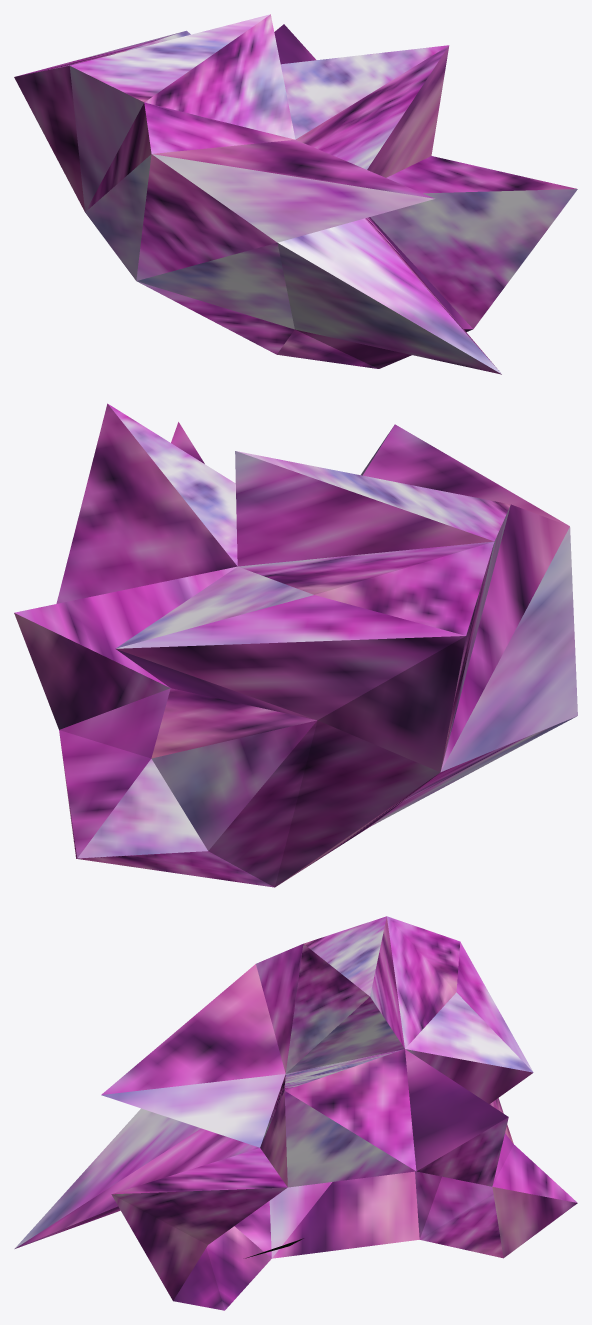
The picture shows the model from 3 angles, top to bottom: view 1: azimuth 30°, elevation 25°; view 2: azimuth 150°, elevation 25°; view 3: azimuth 270°, elevation 25°; orthographic projection. The views are drawn at different scales.
Parts seen in each view (by area): view 1: B_0021_1b_0, B_0021_1b_1; view 2: B_0021_1b_0, B_0021_1b_1; view 3: B_0021_1b_0, B_0021_1b_1.
Part boxes in pixels (left/top/right/bottom): B_0021_1b_0: left=14, top=14, right=576, bottom=374; B_0021_1b_1: left=69, top=24, right=577, bottom=373; B_0021_1b_0: left=14, top=404, right=576, bottom=887; B_0021_1b_1: left=107, top=403, right=577, bottom=771; B_0021_1b_0: left=15, top=916, right=577, bottom=1310; B_0021_1b_1: left=14, top=1049, right=508, bottom=1258.
Size of the model in its own units: 2.76 by 2.12 by 3.63.
